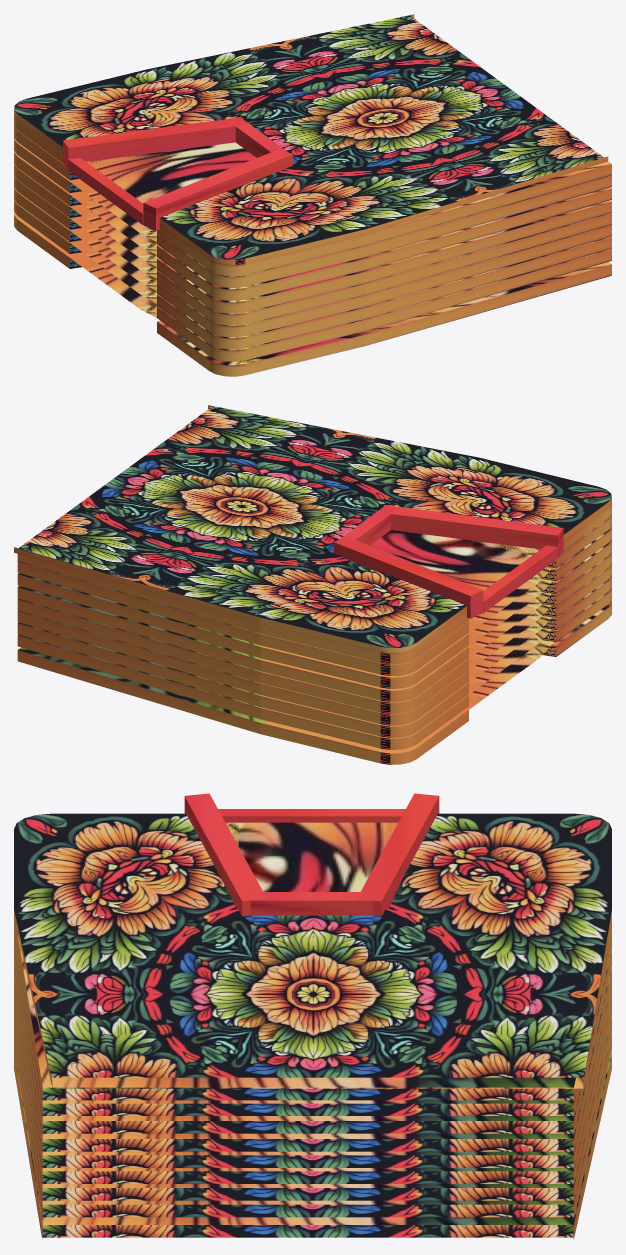
The model's file is Guayabera2_1.obj.
3 views of the same model, one above another, from view 1: azimuth 30°, elevation 25°; view 2: azimuth 150°, elevation 25°; view 3: azimuth 270°, elevation 25° (orthographic). The views are drawn at different scales.
Visible parts, largest first — view 1: Guayabera2; view 2: Guayabera2; view 3: Guayabera2.
Boxes of the visible parts, x1,y1,x2,y2 form: Guayabera2: [14, 14, 611, 376]; Guayabera2: [14, 405, 611, 764]; Guayabera2: [14, 793, 611, 1239].
Bounding box in the file's own units: 0.3772 × 0.1129 × 0.35.
Materials: 1 (1 with a texture image).
